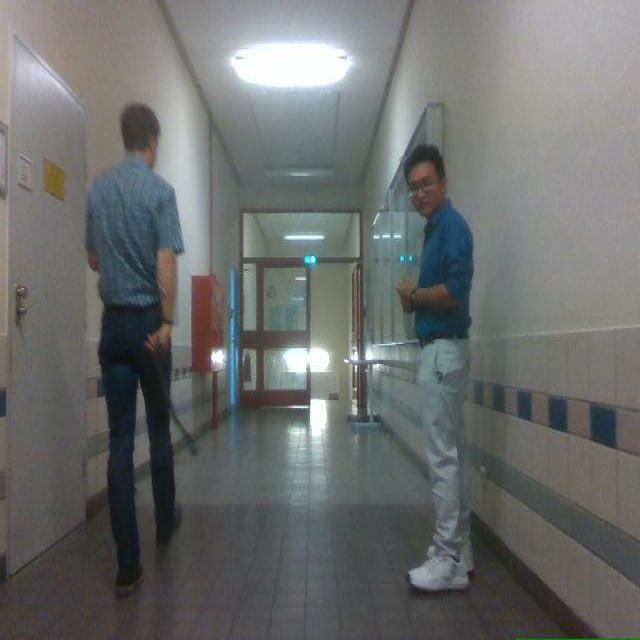humans: (86, 104, 183, 594), (86, 104, 182, 594), (397, 146, 473, 590)
